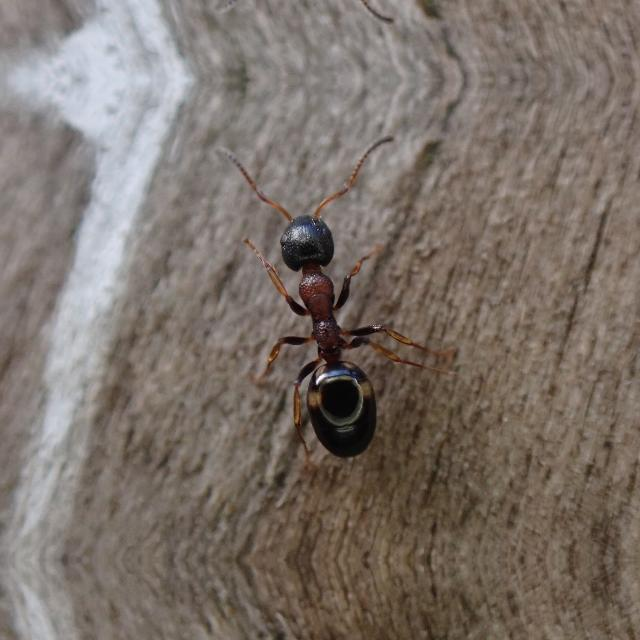Dolichoderus: (232, 166, 424, 466)
